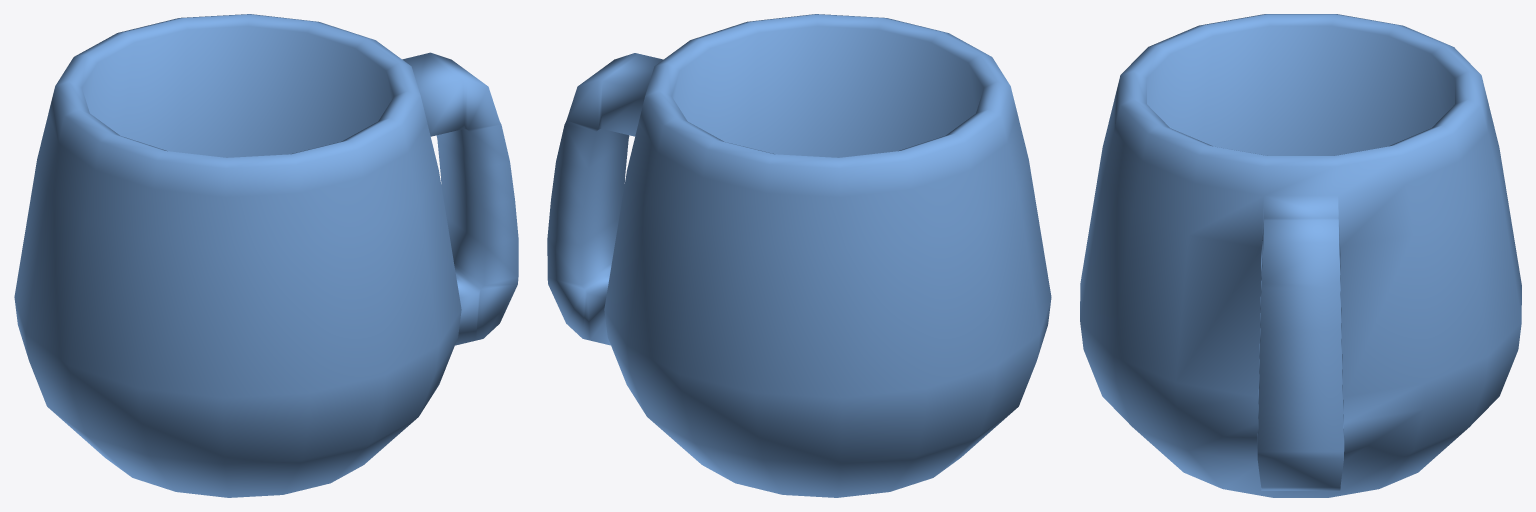
File: Canecas1.fbx
3 renders of one model, left to right at view 1: azimuth 30°, elevation 25°; view 2: azimuth 150°, elevation 25°; view 3: azimuth 270°, elevation 25°, orthographic.
Visible parts, largest first — view 1: 1; view 2: 1; view 3: 1.
Boxes of the visible parts, x1,y1,x2,y2 form: 1: (14, 14, 518, 497); 1: (547, 14, 1051, 497); 1: (1080, 14, 1521, 497).
Bounding box in the file's own units: 344 × 291 × 258.
